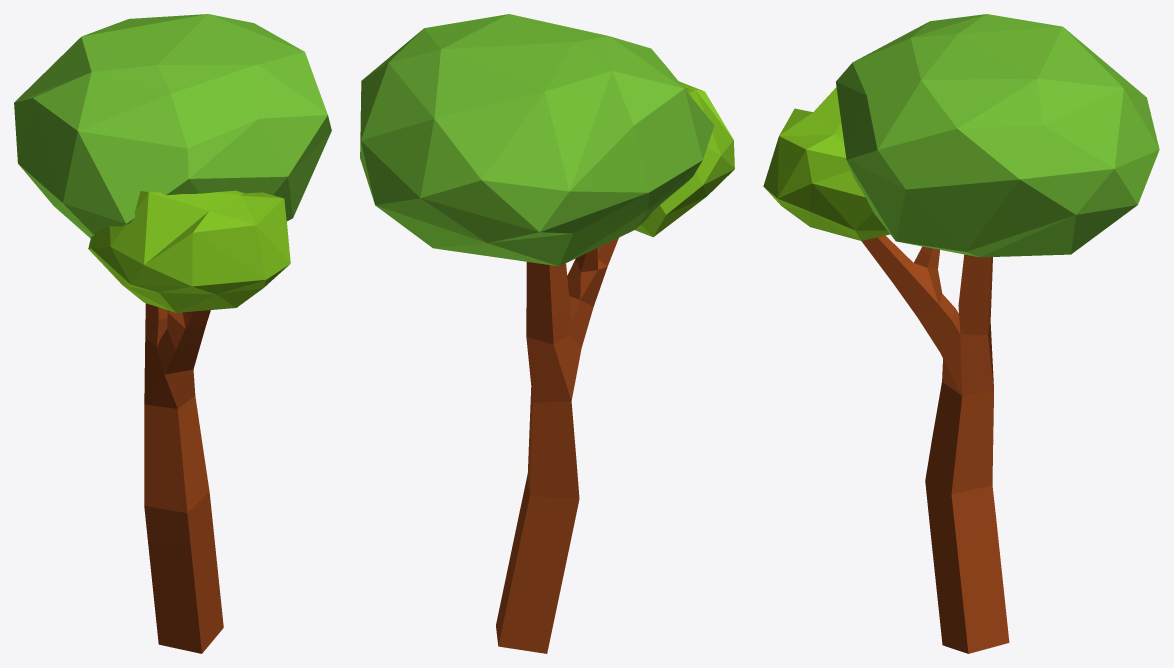
Rendered from ktree.fbx.
The picture shows the model from 3 angles, left to right: view 1: azimuth 30°, elevation 25°; view 2: azimuth 150°, elevation 25°; view 3: azimuth 270°, elevation 25°; orthographic projection. The views are drawn at different scales.
Visible parts, largest first — view 1: Tree; view 2: Tree; view 3: Tree.
Part boxes in pixels (box(x1,y1,x2,y2)): Tree: box(14, 14, 331, 653); Tree: box(360, 14, 734, 653); Tree: box(763, 14, 1159, 653).
Size of the model in its own units: 4.79 by 9.43 by 5.71.
